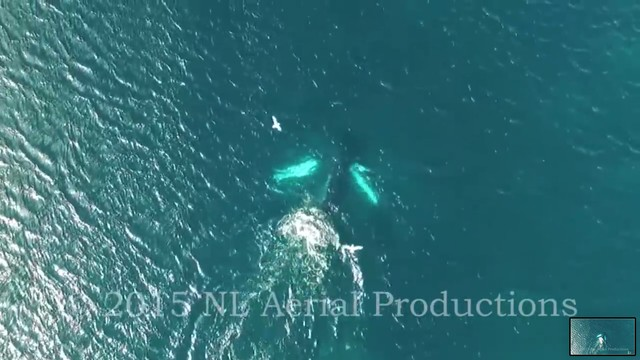whale: (267, 115, 383, 287)
